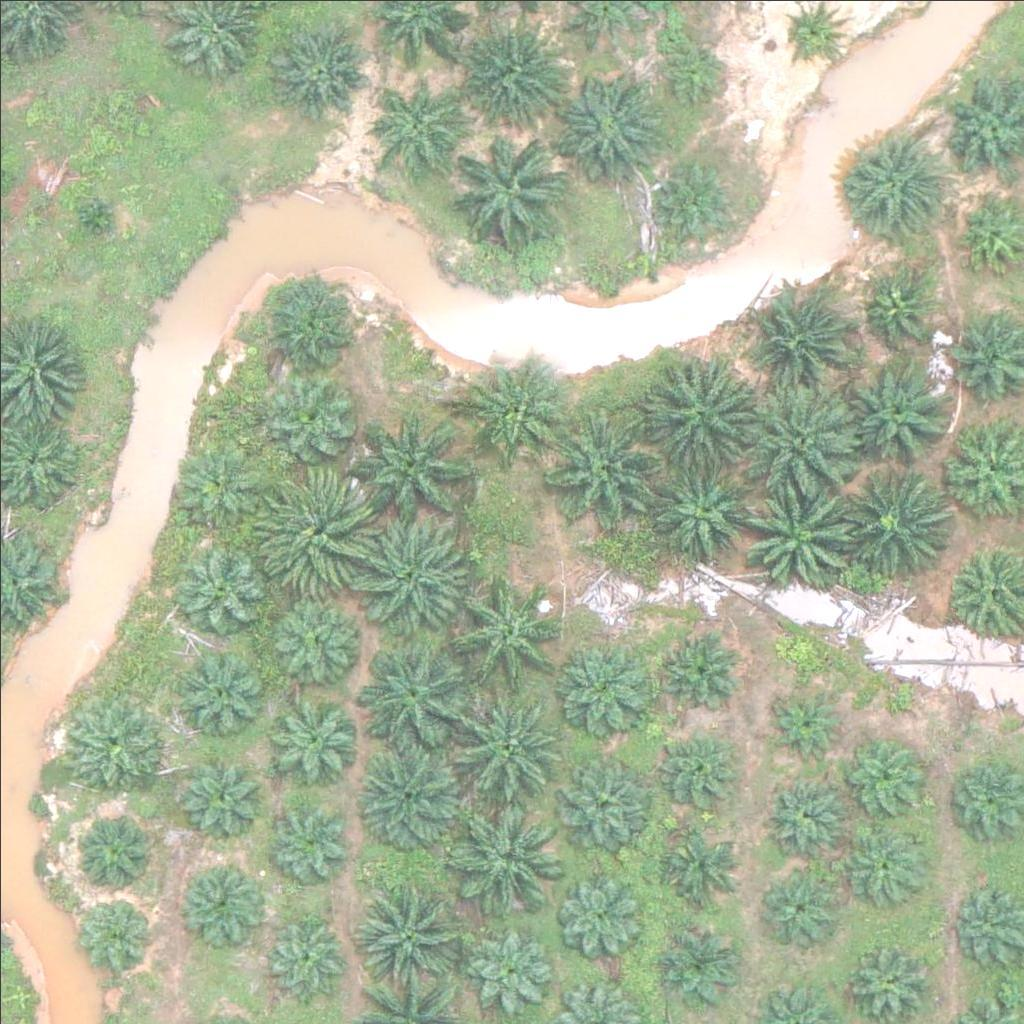Kelapa_Sawit: (647, 355, 760, 469), (358, 740, 471, 854), (450, 138, 563, 251), (556, 65, 669, 178), (259, 477, 372, 590), (354, 643, 467, 756), (840, 460, 953, 573), (348, 515, 460, 629), (359, 414, 471, 527), (461, 10, 573, 123), (548, 414, 660, 527), (740, 381, 852, 494), (354, 871, 466, 984), (447, 577, 559, 690), (447, 686, 559, 799), (451, 798, 563, 911), (741, 477, 853, 590), (852, 363, 952, 464), (63, 697, 163, 798), (171, 636, 271, 737), (554, 743, 654, 844), (653, 462, 753, 563), (261, 275, 361, 375), (270, 22, 370, 122), (464, 354, 564, 454), (754, 289, 854, 389), (844, 129, 944, 229), (261, 591, 361, 691), (257, 687, 357, 787), (555, 638, 655, 738), (269, 380, 357, 468), (653, 154, 741, 242), (172, 445, 260, 533), (263, 796, 351, 884), (554, 869, 642, 957), (655, 621, 743, 709), (372, 73, 459, 161), (265, 910, 352, 998), (176, 853, 263, 941), (69, 807, 156, 895), (175, 537, 262, 625), (180, 758, 267, 846), (838, 735, 925, 823), (842, 820, 929, 908), (757, 859, 844, 947), (756, 775, 843, 863), (658, 731, 745, 819), (650, 828, 737, 916), (658, 925, 745, 1013), (466, 924, 553, 1012), (767, 690, 842, 766), (78, 892, 153, 968), (862, 272, 937, 347), (654, 36, 729, 111), (74, 194, 124, 245)
